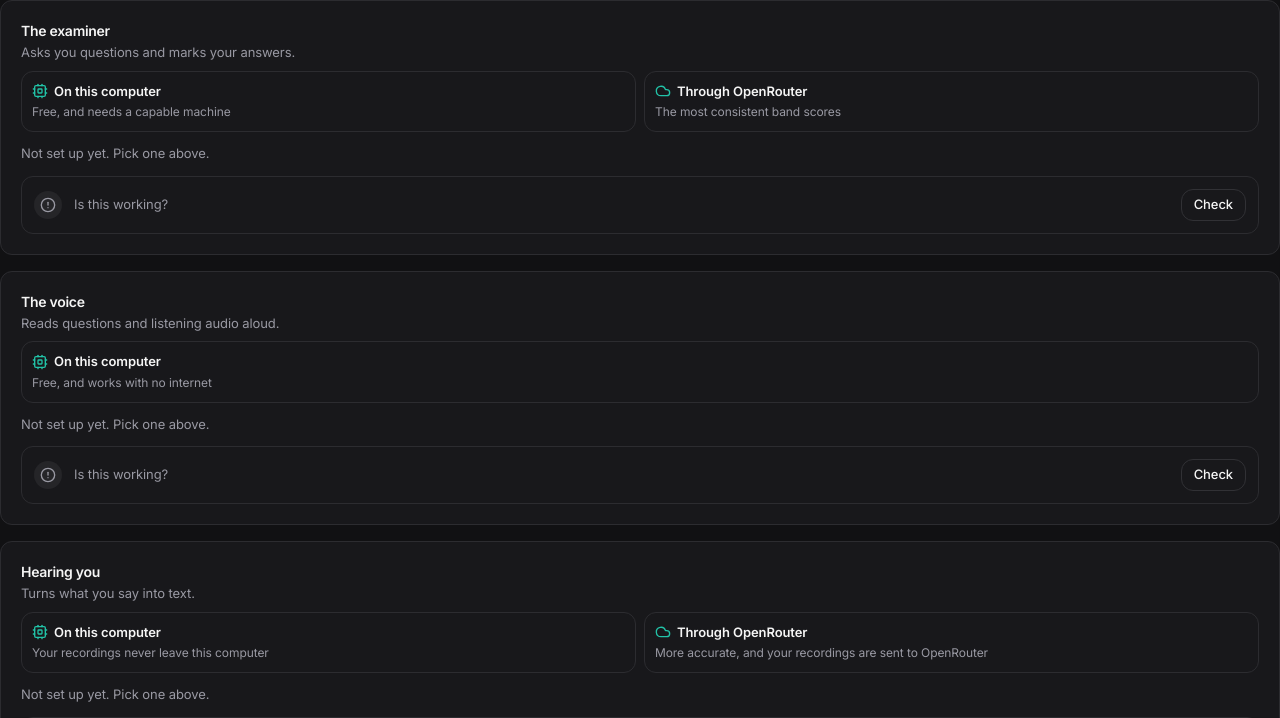
Test: the three provider sections › preselects the model the sidecar recommends
Click the button "Through OpenRouter". click: (952, 642)
box: x1=644 y1=612 x2=1259 y2=673
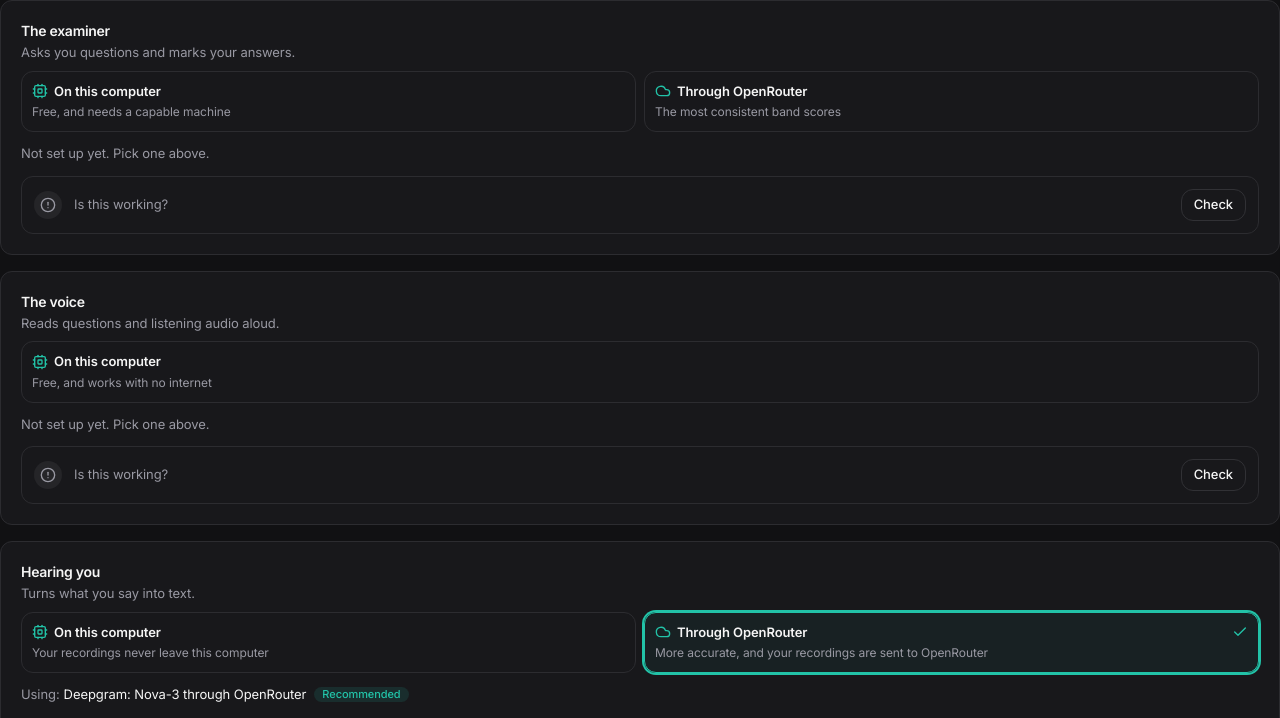
Expected: the text "Using: Deepgram: Nova-3 through OpenRouter Recommended" is shown, x1=21 y1=686 x2=408 y2=702
Expected: the text "Recommended" is shown, x1=314 y1=687 x2=409 y2=702
